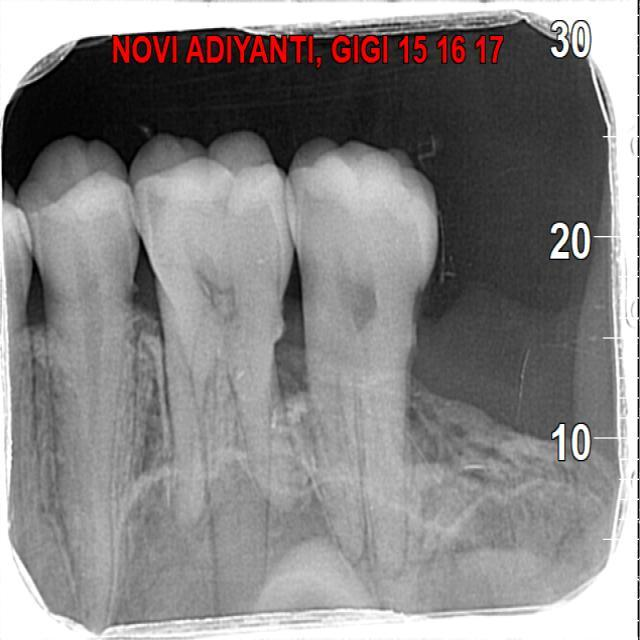individual-tooth-8tto: (127, 130, 314, 527), (14, 130, 149, 639), (289, 139, 441, 573)
